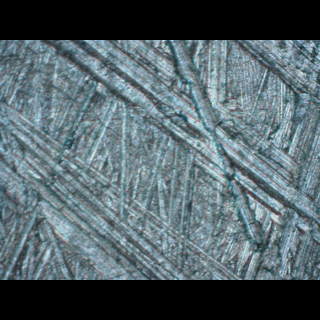d: (24, 40, 319, 223), (0, 96, 239, 280), (232, 40, 320, 110)
